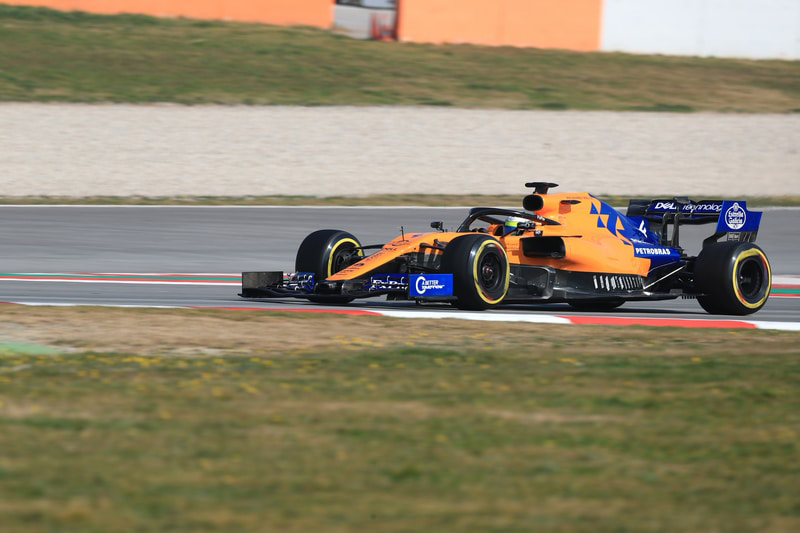F1 Car: (233, 174, 775, 332)
